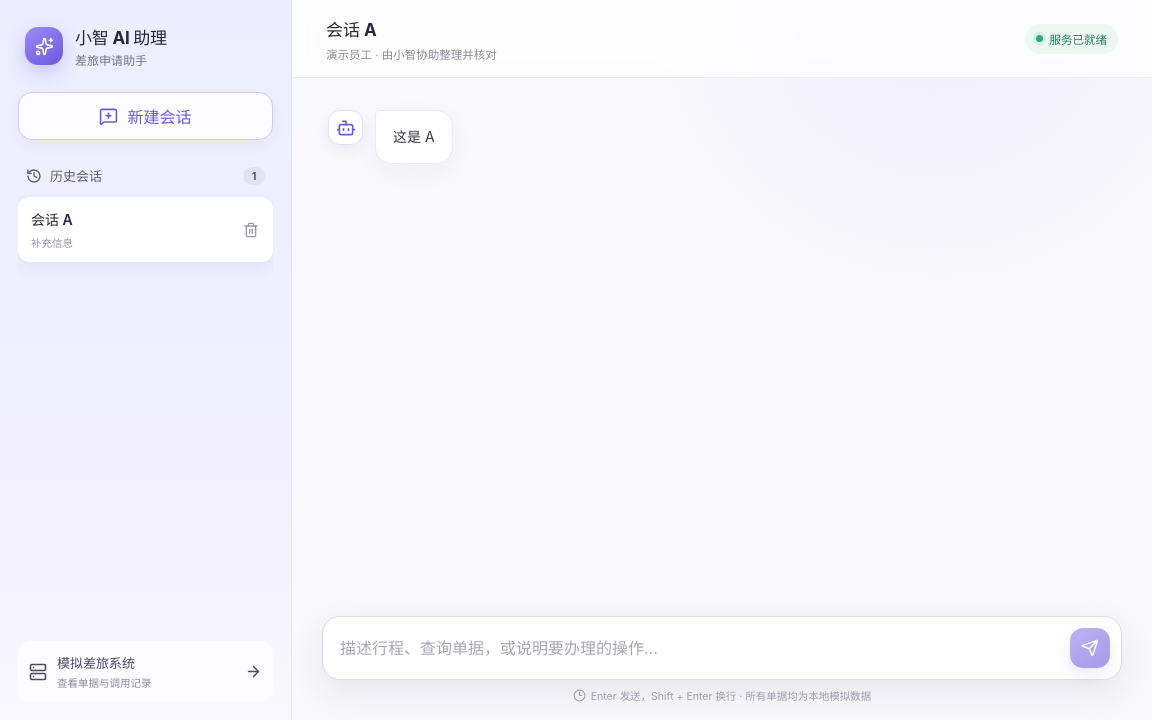
Test: 删除历史会话 › 删除最后一个会话后显示欢迎页，不自动创建空会话
Check: the text "这是 A" is shown, box [393, 125, 435, 149]
Click the button named "删除会话：会话 A": (251, 230) [234, 212, 268, 246]
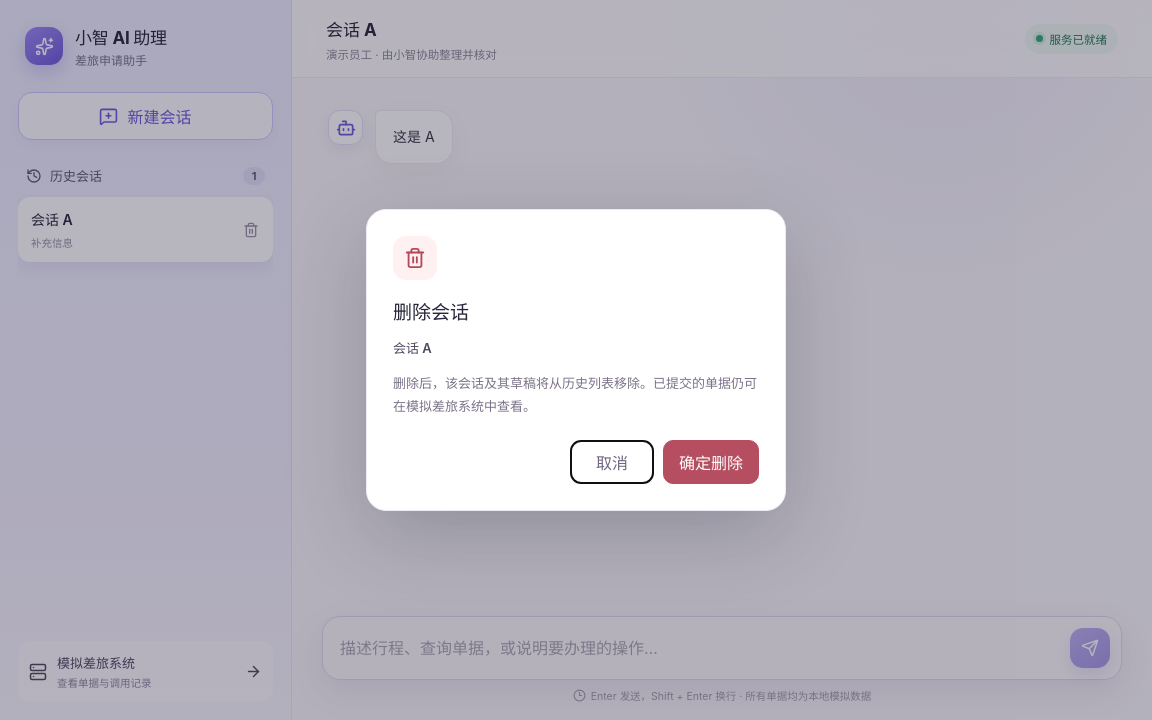
Click the button "确定删除": (711, 462) [663, 440, 759, 484]
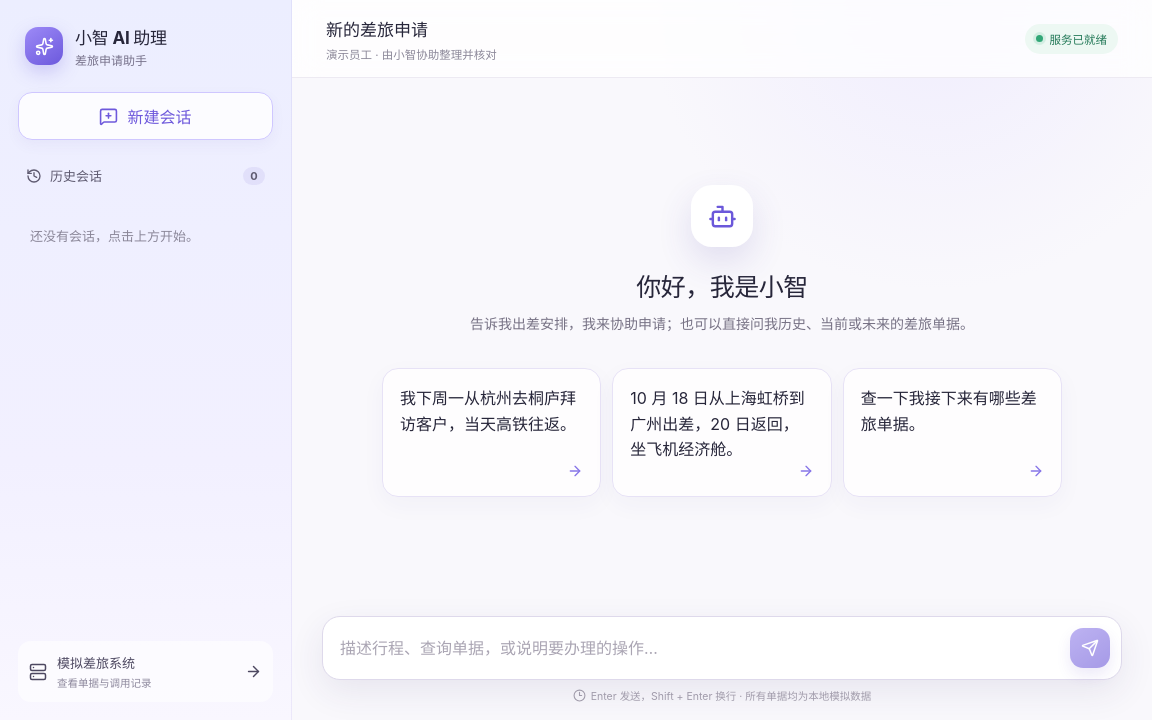
Check: the heading "你好，我是小智" is shown, box [636, 267, 808, 303]
Check: the text box named "发送给小智的消息" is enabled, box [340, 629, 1060, 668]
